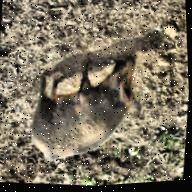boar: (21, 37, 158, 172)
